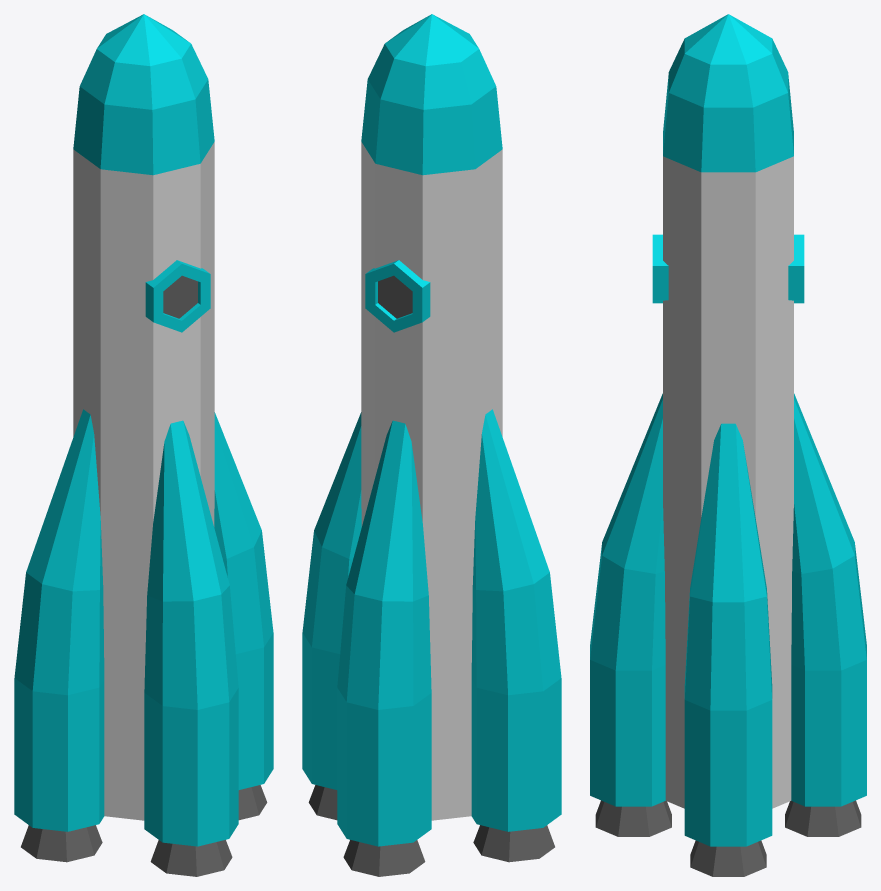
The model's file is Rocket.fbx.
3 views of the same model, side by side, from view 1: azimuth 30°, elevation 25°; view 2: azimuth 150°, elevation 25°; view 3: azimuth 270°, elevation 25° (orthographic).
Parts seen in each view (by area): view 1: Cylinder, Cylinder.002, Cylinder.001, Cylinder.003, Cylinder.005; view 2: Cylinder, Cylinder.004, Cylinder.001, Cylinder.003, Cylinder.006; view 3: Cylinder, Cylinder.003, Cylinder.002, Cylinder.004, Cylinder.005, Cylinder.006.
Boxes of the visible parts, x1,y1,x2,y2 form: Cylinder: (73,14,214,820); Cylinder.002: (144,420,238,876); Cylinder.001: (14,409,104,862); Cylinder.003: (214,412,273,820); Cylinder.005: (145,260,210,332); Cylinder: (361,14,502,820); Cylinder.004: (337,420,431,876); Cylinder.001: (471,409,561,862); Cylinder.003: (302,412,361,820); Cylinder.006: (365,260,430,332); Cylinder: (663,14,793,808); Cylinder.003: (684,423,772,876); Cylinder.002: (590,393,671,836); Cylinder.004: (785,393,866,836); Cylinder.005: (652,234,668,303); Cylinder.006: (788,234,804,303).
Size of the model in its own units: 117 by 376 by 117.
